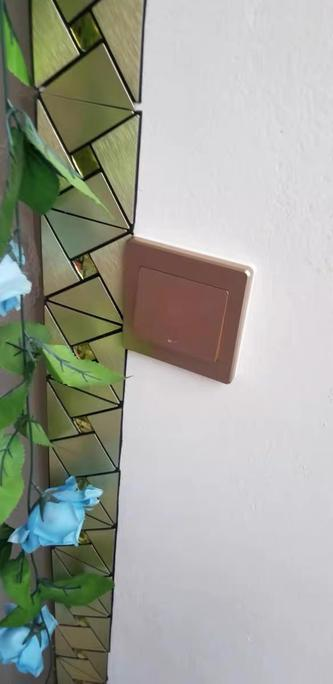switch: (135, 269, 217, 359)
